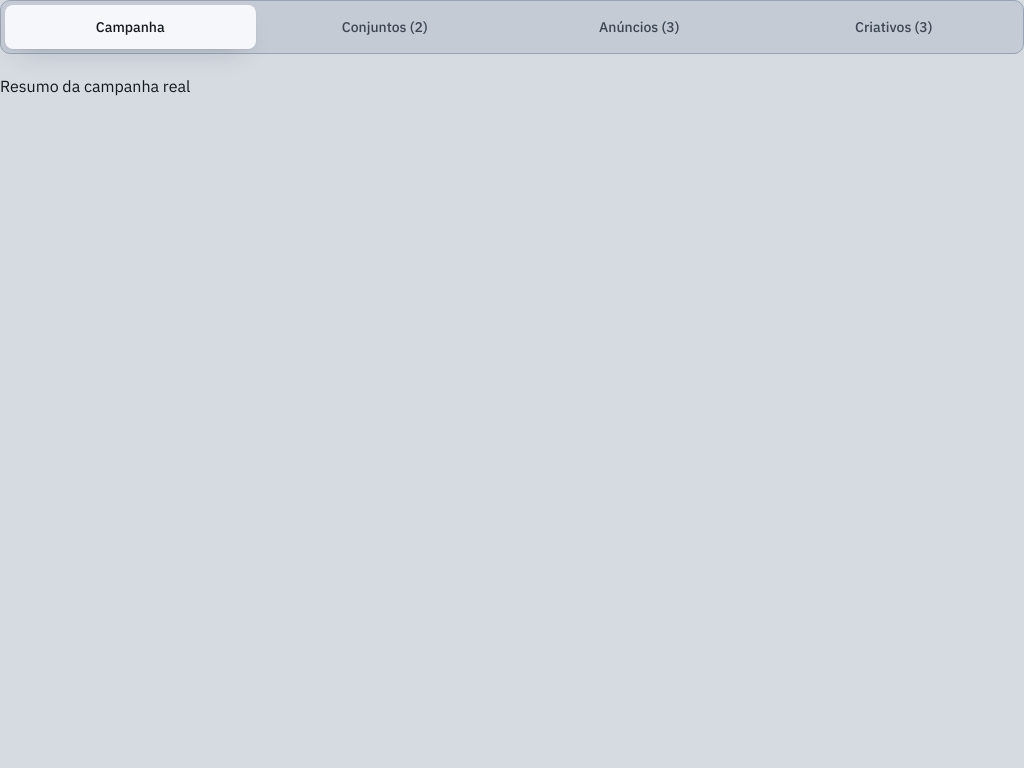
Test case: zero medido continua zero e falta de identidade não agrupa criativos desconhecidos
The image size is (1024, 768).
Press the mouse on the tab "Criativos (3)" at point(894, 27), box top-left (768, 5), bottom-right (1019, 49)
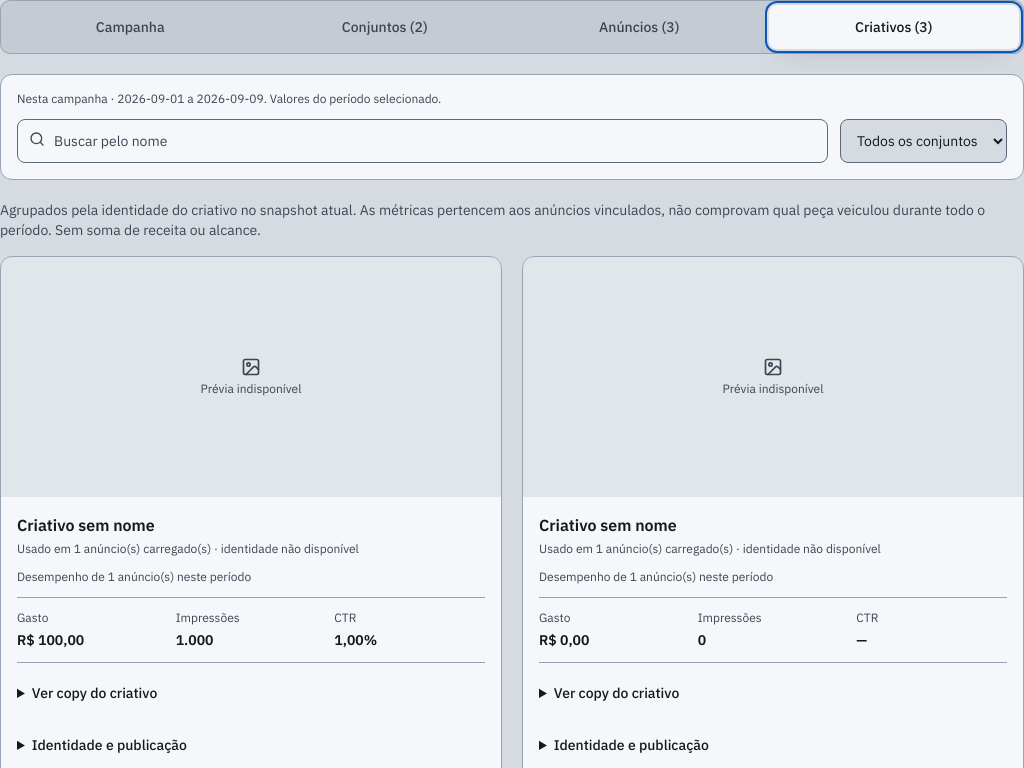
Now the text "R$ 0,00" is shown, box top-left (539, 631), bottom-right (589, 649)
Now the text "identidade não disponível" is shown 2 times, box top-left (17, 541), bottom-right (359, 556); top-left (539, 541), bottom-right (881, 556)
